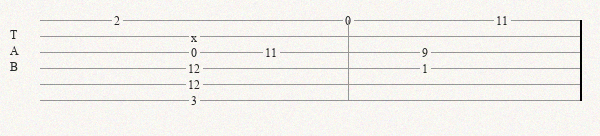0: (191, 46, 201, 59), (345, 14, 355, 27)
1: (422, 62, 432, 75)
11: (265, 46, 281, 59), (496, 14, 512, 27)
12: (188, 62, 204, 75), (188, 78, 204, 91)
2: (114, 14, 124, 27)
3: (191, 94, 201, 107)
9: (422, 46, 432, 59)
x: (191, 31, 201, 41)
